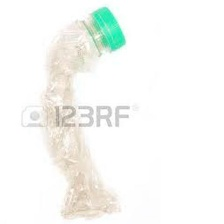bottle: (30, 4, 144, 221)
